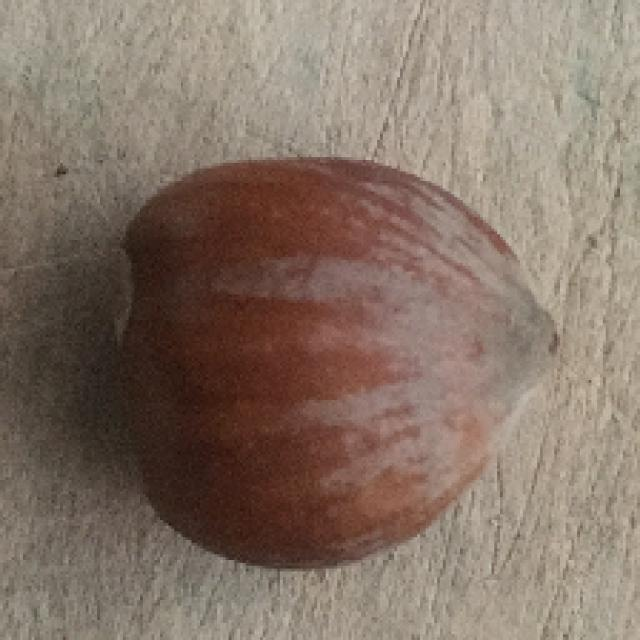qualityHazelnut: (112, 154, 558, 568)
